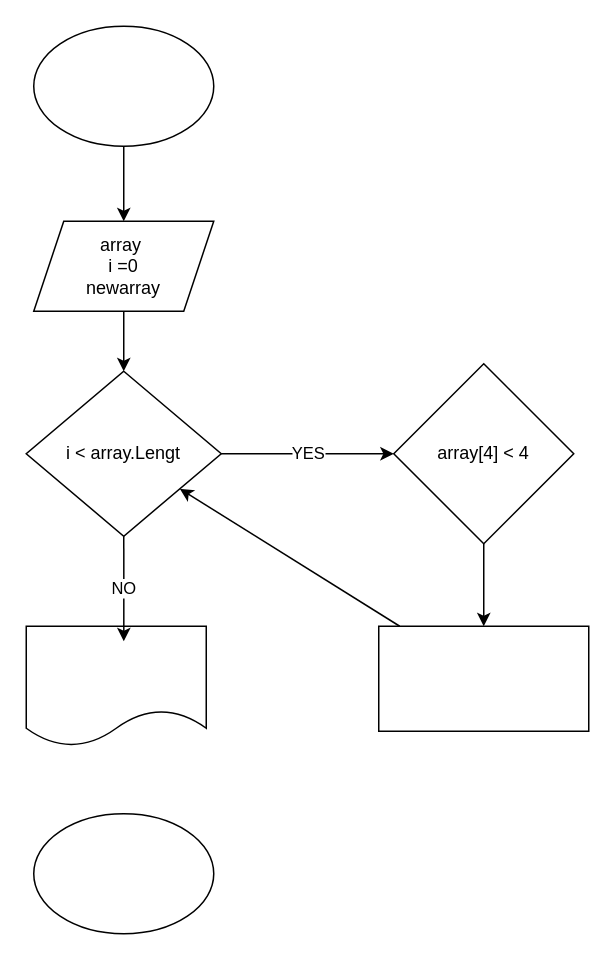
Some shapes in this 615 by 960 pixel diagram are drawn without their labels. Each missing label, with the box of its shape:
newaaray [i]; i++: (377, 625, 589, 731)
START: (32, 25, 214, 146)
